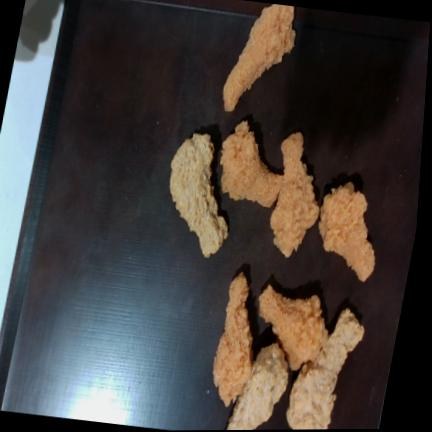chicken: (286, 309, 363, 430), (222, 3, 295, 111), (169, 133, 227, 257), (270, 132, 319, 257), (259, 284, 327, 369), (318, 181, 374, 280), (225, 343, 288, 430), (220, 120, 282, 206), (213, 272, 252, 406)
